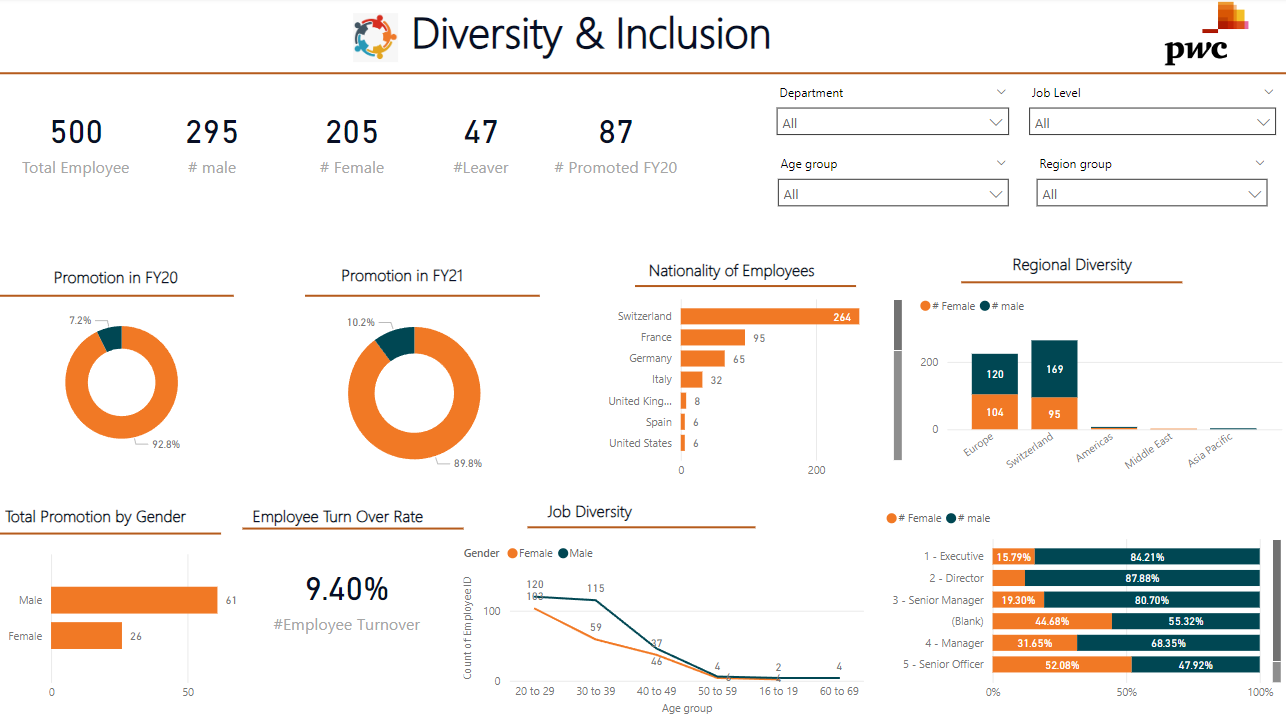

What the dashboard file says about the page in this screenshot:
{"tool":"powerbi","page":{"name":"Page 3","canvas":[1280,720],"ordinal":2},"visuals":[{"type":"textbox","box":[345.8,0,649.3,82.1],"z":0},{"type":"shape","box":[0,69.7,1280,12.4],"z":1},{"type":"image","box":[1120.8,0,159.2,73.4],"z":2},{"type":"image","box":[334.6,11.2,78.4,58.5],"z":3},{"type":"slicer","fields":{"Values":["Pharma.Last Department in FY20"]},"box":[762.5,82.1,251.3,97],"z":4},{"type":"slicer","fields":{"Values":["Pharma.Job Level after FY20 promotions"]},"box":[1013.8,82.1,266.2,97],"z":5},{"type":"slicer","fields":{"Values":["Pharma.Age group"]},"box":[763.8,153,250,97],"z":6},{"type":"slicer","fields":{"Values":["Pharma.Broad region group: nationality 1"]},"box":[1021.3,153,250,97],"z":7},{"type":"donutChart","fields":{"Category":["Pharma.Promotion in FY20?"],"Y":["CountNonNull(Pharma.Promotion in FY20?)"]},"box":[0,303.8,242.5,160.4],"z":8},{"type":"donutChart","fields":{"Category":["Pharma.Promotion in FY21?"],"Y":["CountNonNull(Pharma.Promotion in FY21?)"]},"box":[286.8,297.3,250.3,194.3],"z":9},{"type":"textbox","box":[48.5,262.5,184.1,41.1],"z":10},{"type":"textbox","box":[334.6,260,182.9,43.5],"z":11},{"type":"shape","box":[0,291.1,232.6,12.4],"z":12},{"type":"shape","box":[303.5,291.1,233.9,12.4],"z":13},{"type":"clusteredBarChart","fields":{"Category":["Pharma.Gender"],"Y":["Pharma.# Promoted FY20"]},"box":[0,542.4,250.3,166.9],"z":14},{"type":"card","fields":{"Values":["Pharma.#Employee Turnover"]},"box":[263.4,542.4,163,109.5],"z":15},{"type":"clusteredBarChart","fields":{"Category":["Pharma.Nationality 1"],"Y":["CountNonNull(Pharma.Nationality 1)"]},"box":[584.1,288.1,318.1,199.5],"z":16},{"type":"columnChart","fields":{"Category":["Pharma.Region group: nationality 1"],"Y":["Pharma.# Female","Pharma.# male"]},"box":[910,288.1,370.3,194.3],"z":17},{"type":"hundredPercentStackedBarChart","fields":{"Category":["Pharma.Job Level after FY21 promotions"],"Y":["Pharma.# Female","Pharma.# male"]},"box":[877.4,500.6,402.9,208.6],"z":18},{"type":"lineChart","fields":{"Category":["Pharma.Age group"],"Y":["CountNonNull(Pharma.Employee ID)"],"Series":["Pharma.Gender"]},"box":[456.3,534.5,408.1,183.8],"z":19},{"type":"card","fields":{"Values":["CountNonNull(Pharma.Employee ID)"]},"box":[0,82.1,151.2,119.9],"z":20},{"type":"card","fields":{"Values":["Pharma.# male"]},"box":[135.6,82.1,151.2,119.9],"z":21},{"type":"card","fields":{"Values":["Pharma.# Female"]},"box":[275.1,82.1,151.2,119.9],"z":22},{"type":"card","fields":{"Values":["Pharma.#Leaver"]},"box":[402.9,82.1,151.2,119.9],"z":23},{"type":"card","fields":{"Values":["Pharma.# Promoted FY20"]},"box":[537.1,82.1,151.2,119.9],"z":24},{"type":"textbox","box":[640.1,255.5,224.2,41.7],"z":25},{"type":"textbox","box":[1002.6,249,174.7,41.7],"z":26},{"type":"textbox","box":[539.7,495.4,220.3,52.1],"z":27},{"type":"textbox","box":[237.3,500.6,299.9,41.7],"z":28},{"type":"textbox","box":[0,500.6,245.1,67.8],"z":29},{"type":"shape","box":[0,528,220.3,13],"z":30},{"type":"shape","box":[241.2,522.8,220.3,13],"z":31},{"type":"shape","box":[525.4,521.5,226.8,13],"z":32},{"type":"shape","box":[632.3,281.6,220.3,13],"z":33},{"type":"shape","box":[956.9,277.7,220.3,13],"z":34}]}

Visuals, with their boxes in screenshot pixels (x1, y1, x2, y2), scaled from the page's 1280x720 canvas onto the 1286x719 screenshot:
textbox: [left=347, top=0, right=1000, bottom=82]
shape: [left=0, top=70, right=1285, bottom=82]
image: [left=1126, top=0, right=1285, bottom=73]
image: [left=336, top=11, right=415, bottom=70]
slicer - Pharma.Last Department in FY20: [left=766, top=82, right=1019, bottom=179]
slicer - Pharma.Job Level after FY20 promotions: [left=1019, top=82, right=1285, bottom=179]
slicer - Pharma.Age group: [left=767, top=153, right=1019, bottom=250]
slicer - Pharma.Broad region group: nationality 1: [left=1026, top=153, right=1277, bottom=250]
donutChart - Pharma.Promotion in FY20? x CountNonNull(Pharma.Promotion in FY20?): [left=0, top=303, right=244, bottom=464]
donutChart - Pharma.Promotion in FY21? x CountNonNull(Pharma.Promotion in FY21?): [left=288, top=297, right=540, bottom=491]
textbox: [left=49, top=262, right=234, bottom=303]
textbox: [left=336, top=260, right=520, bottom=303]
shape: [left=0, top=291, right=234, bottom=303]
shape: [left=305, top=291, right=540, bottom=303]
clusteredBarChart - Pharma.Gender x Pharma.# Promoted FY20: [left=0, top=542, right=251, bottom=708]
card - Pharma.#Employee Turnover: [left=265, top=542, right=428, bottom=651]
clusteredBarChart - Pharma.Nationality 1 x CountNonNull(Pharma.Nationality 1): [left=587, top=288, right=906, bottom=487]
columnChart - Pharma.Region group: nationality 1 x Pharma.# Female: [left=914, top=288, right=1285, bottom=482]
hundredPercentStackedBarChart - Pharma.Job Level after FY21 promotions x Pharma.# Female: [left=882, top=500, right=1285, bottom=708]
lineChart - Pharma.Age group x CountNonNull(Pharma.Employee ID): [left=458, top=534, right=868, bottom=717]
card - CountNonNull(Pharma.Employee ID): [left=0, top=82, right=152, bottom=202]
card - Pharma.# male: [left=136, top=82, right=288, bottom=202]
card - Pharma.# Female: [left=276, top=82, right=428, bottom=202]
card - Pharma.#Leaver: [left=405, top=82, right=557, bottom=202]
card - Pharma.# Promoted FY20: [left=540, top=82, right=692, bottom=202]
textbox: [left=643, top=255, right=868, bottom=297]
textbox: [left=1007, top=249, right=1183, bottom=290]
textbox: [left=542, top=495, right=764, bottom=547]
textbox: [left=238, top=500, right=540, bottom=542]
textbox: [left=0, top=500, right=246, bottom=568]
shape: [left=0, top=527, right=221, bottom=540]
shape: [left=242, top=522, right=464, bottom=535]
shape: [left=528, top=521, right=756, bottom=534]
shape: [left=635, top=281, right=857, bottom=294]
shape: [left=961, top=277, right=1183, bottom=290]
